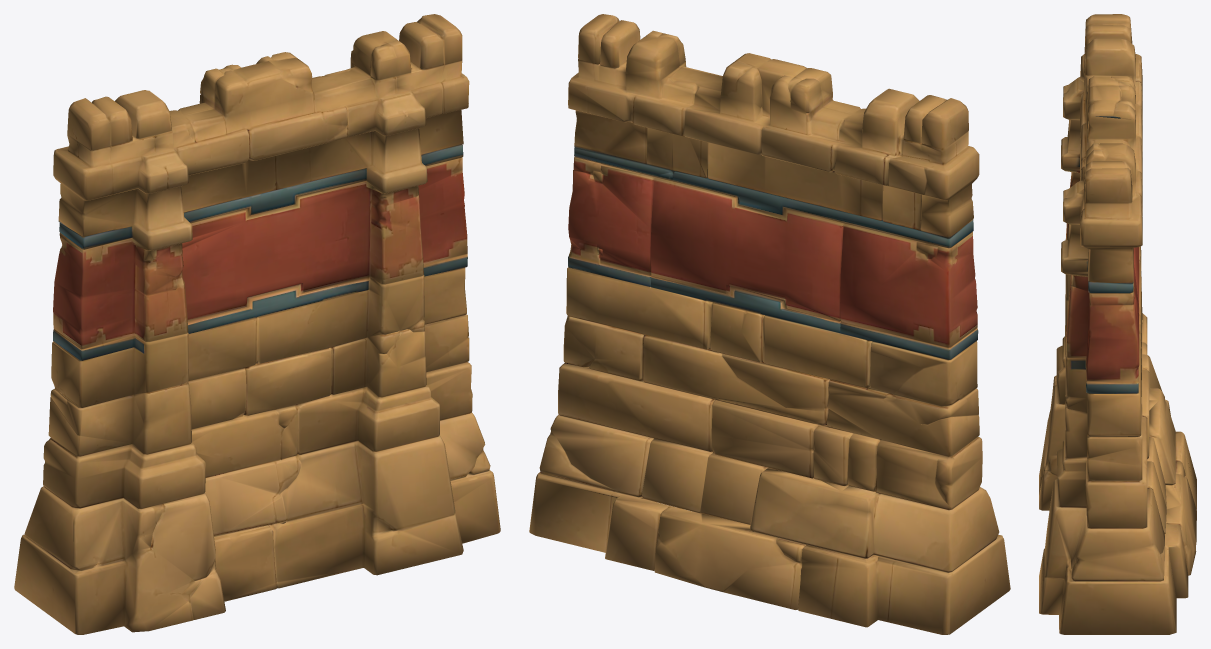
The model's file is SM_Tripo_DesertRampart.glb.
3 views of the same model, side by side, from view 1: azimuth 30°, elevation 25°; view 2: azimuth 150°, elevation 25°; view 3: azimuth 270°, elevation 25° (orthographic). The views are drawn at different scales.
Parts seen in each view (by area): view 1: SM_Tripo_DesertRampart_LOD0; view 2: SM_Tripo_DesertRampart_LOD0; view 3: SM_Tripo_DesertRampart_LOD0.
Part boxes in pixels (x1,y1,x2,y2): SM_Tripo_DesertRampart_LOD0: (14, 14, 500, 634); SM_Tripo_DesertRampart_LOD0: (529, 14, 1010, 634); SM_Tripo_DesertRampart_LOD0: (1039, 14, 1196, 634).
Size of the model in its own units: 7.97 by 9 by 2.85.
Materials: 1 (1 with a texture image).
